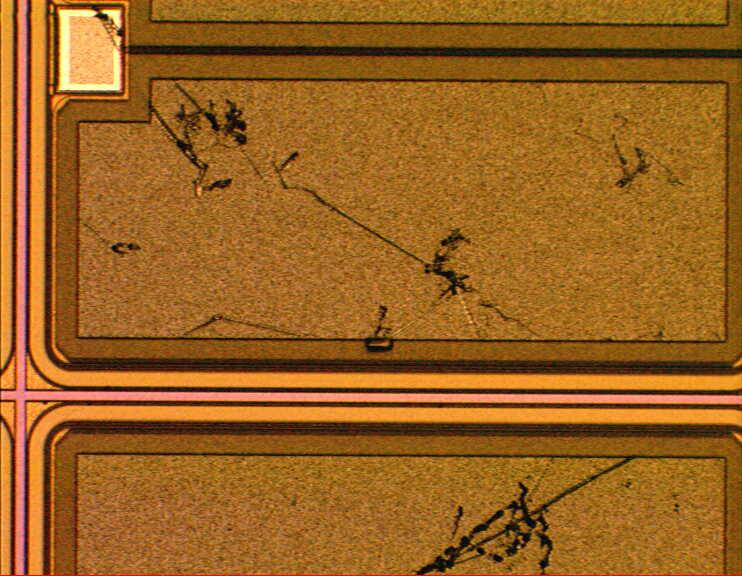SCRATCH: (68, 1, 695, 576)
